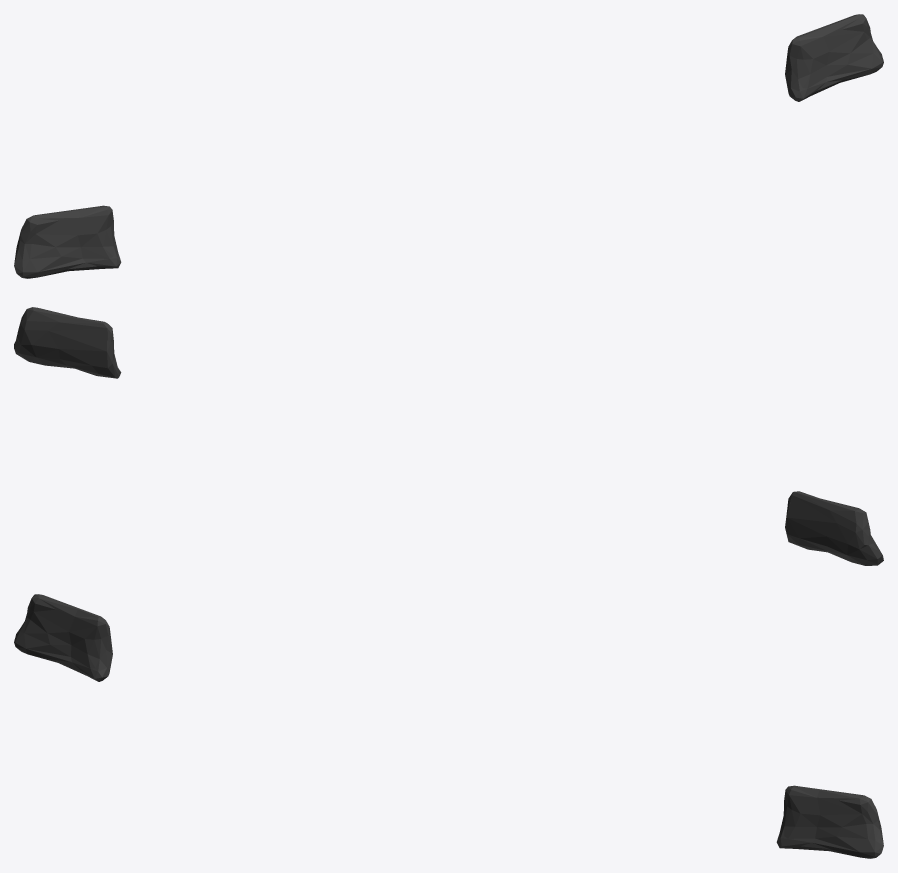
Rendered from lig_intersesamoidean_HL.glb.
3 views of the same model, one above another, from view 1: azimuth 30°, elevation 25°; view 2: azimuth 150°, elevation 25°; view 3: azimuth 330°, elevation 25° (orthographic).
Visible parts, largest first — view 1: lig_intersesamoidean_HL; view 2: lig_intersesamoidean_HL; view 3: lig_intersesamoidean_HL.
Part boxes in pixels (x1=…): lig_intersesamoidean_HL: x1=14, y1=14, x2=883, y2=278; lig_intersesamoidean_HL: x1=14, y1=307, x2=883, y2=565; lig_intersesamoidean_HL: x1=14, y1=594, x2=883, y2=858.
Bounding box in the file's own units: 0.00513 × 0.000345 × 0.000206.
1 material, 1 textured.
